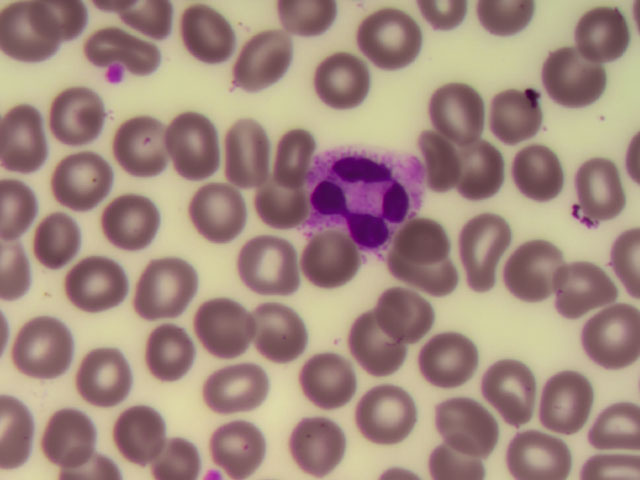Platelets: (106, 67, 119, 79)
RBC: (75, 19, 166, 65), (513, 415, 569, 480), (3, 2, 59, 66), (50, 78, 106, 142), (2, 112, 58, 176), (52, 149, 108, 213), (102, 106, 158, 170), (161, 111, 217, 175), (214, 118, 270, 182), (259, 123, 315, 187), (246, 165, 302, 229), (195, 177, 251, 241), (100, 189, 156, 253), (66, 253, 122, 317), (32, 207, 88, 271), (17, 317, 73, 381), (78, 347, 134, 411), (43, 400, 99, 464), (109, 404, 165, 468), (142, 323, 198, 387), (134, 255, 190, 319), (195, 294, 251, 358), (247, 301, 303, 365), (208, 355, 264, 419), (210, 412, 266, 476), (288, 414, 344, 478), (302, 347, 358, 411), (351, 321, 407, 385), (371, 284, 427, 348), (362, 378, 418, 442), (419, 328, 475, 392), (438, 394, 494, 458), (482, 362, 538, 426), (533, 367, 589, 431), (584, 303, 640, 367), (553, 258, 609, 322), (516, 241, 572, 305), (465, 223, 521, 287), (397, 208, 453, 272), (395, 245, 451, 309), (291, 229, 347, 293), (456, 134, 512, 198), (421, 133, 477, 197), (427, 79, 483, 143), (488, 80, 544, 144), (515, 137, 571, 201), (569, 158, 625, 222), (542, 52, 598, 116), (575, 2, 631, 66), (366, 9, 422, 73), (314, 51, 370, 115), (235, 31, 291, 95), (186, 6, 242, 70), (276, 1, 332, 64)
WBC: (302, 138, 417, 254)
